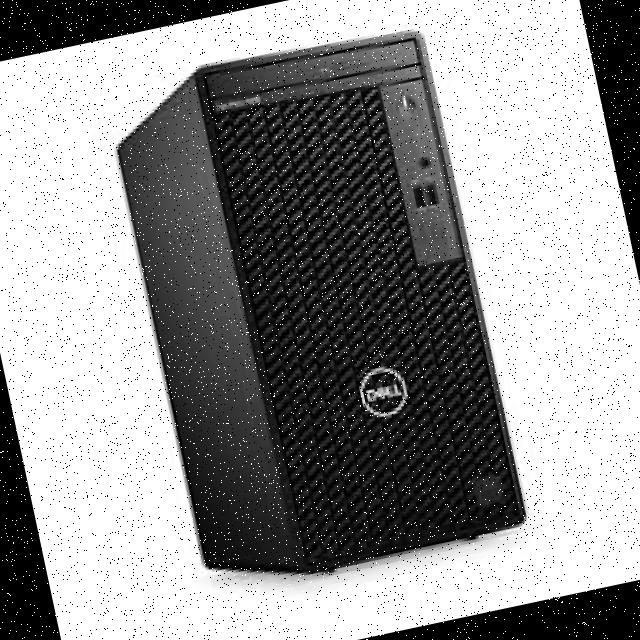Computer: (75, 0, 575, 614)
